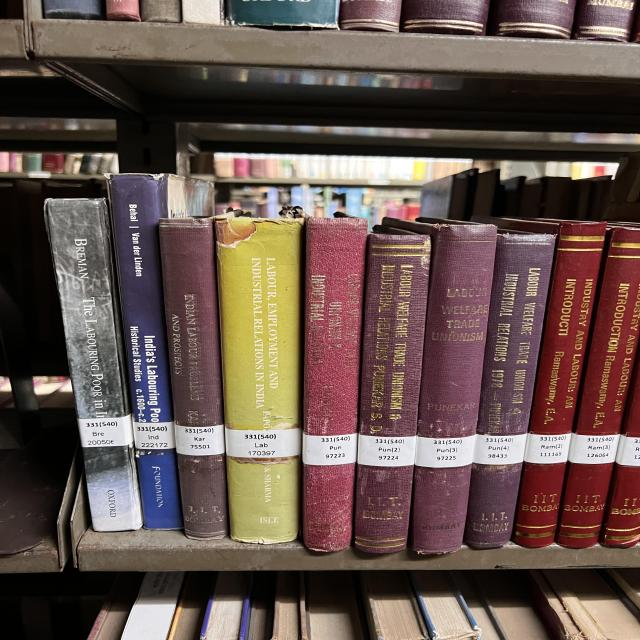Book: (383, 220, 497, 554), (45, 199, 142, 531), (513, 220, 607, 548), (465, 230, 555, 549), (215, 218, 303, 544), (107, 174, 185, 529), (555, 226, 640, 548), (353, 226, 430, 554), (158, 218, 228, 540), (302, 218, 367, 551)
Label: (225, 429, 302, 458), (415, 435, 475, 468), (357, 435, 417, 466), (78, 415, 133, 448), (302, 434, 357, 465), (473, 434, 527, 465), (568, 434, 620, 464), (175, 425, 225, 456), (523, 434, 572, 464), (133, 421, 175, 449)
